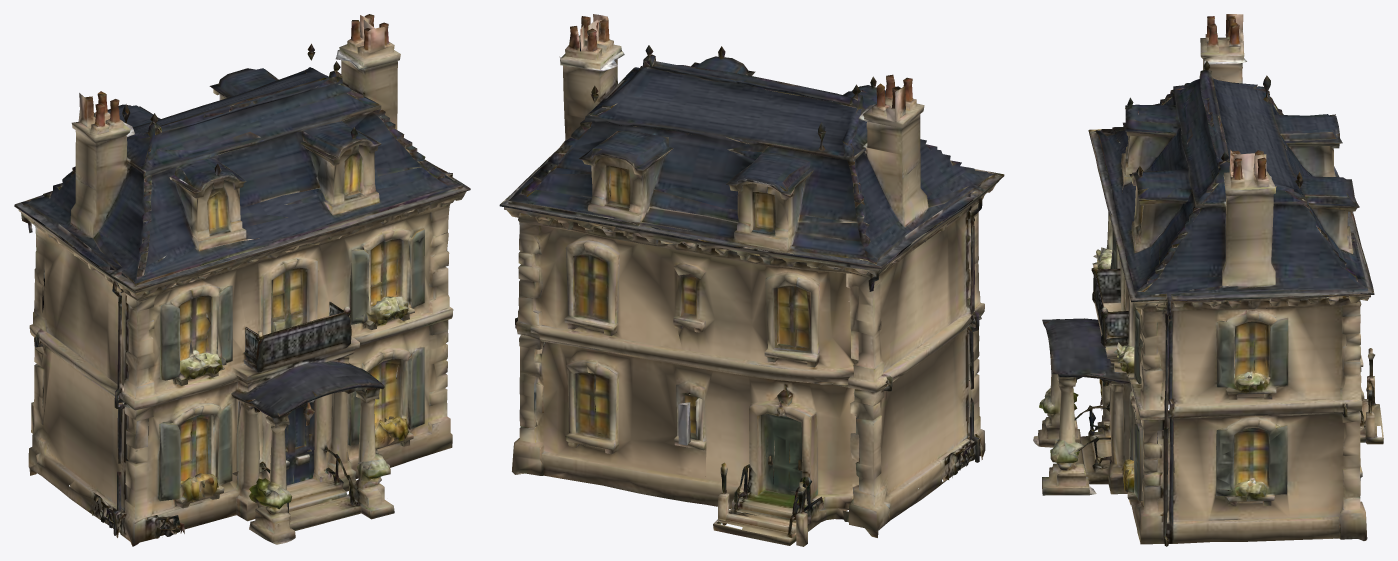
File: hotel_2.glb
3 renders of one model, left to right at view 1: azimuth 30°, elevation 25°; view 2: azimuth 150°, elevation 25°; view 3: azimuth 270°, elevation 25°, orthographic. The views are drawn at different scales.
Parts seen in each view (by area): view 1: classic__hotel_2__neural_lod; view 2: classic__hotel_2__neural_lod; view 3: classic__hotel_2__neural_lod.
Part boxes in pixels (x1,y1,x2,y2): classic__hotel_2__neural_lod: [14, 14, 470, 546]; classic__hotel_2__neural_lod: [499, 14, 1004, 546]; classic__hotel_2__neural_lod: [1033, 14, 1383, 546].
Bounding box in the file's own units: 0.9441 × 0.9992 × 0.8168.
1 material, 1 textured.
